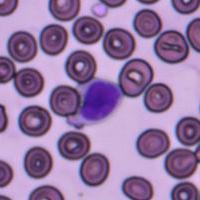L: (77, 78, 123, 125)
